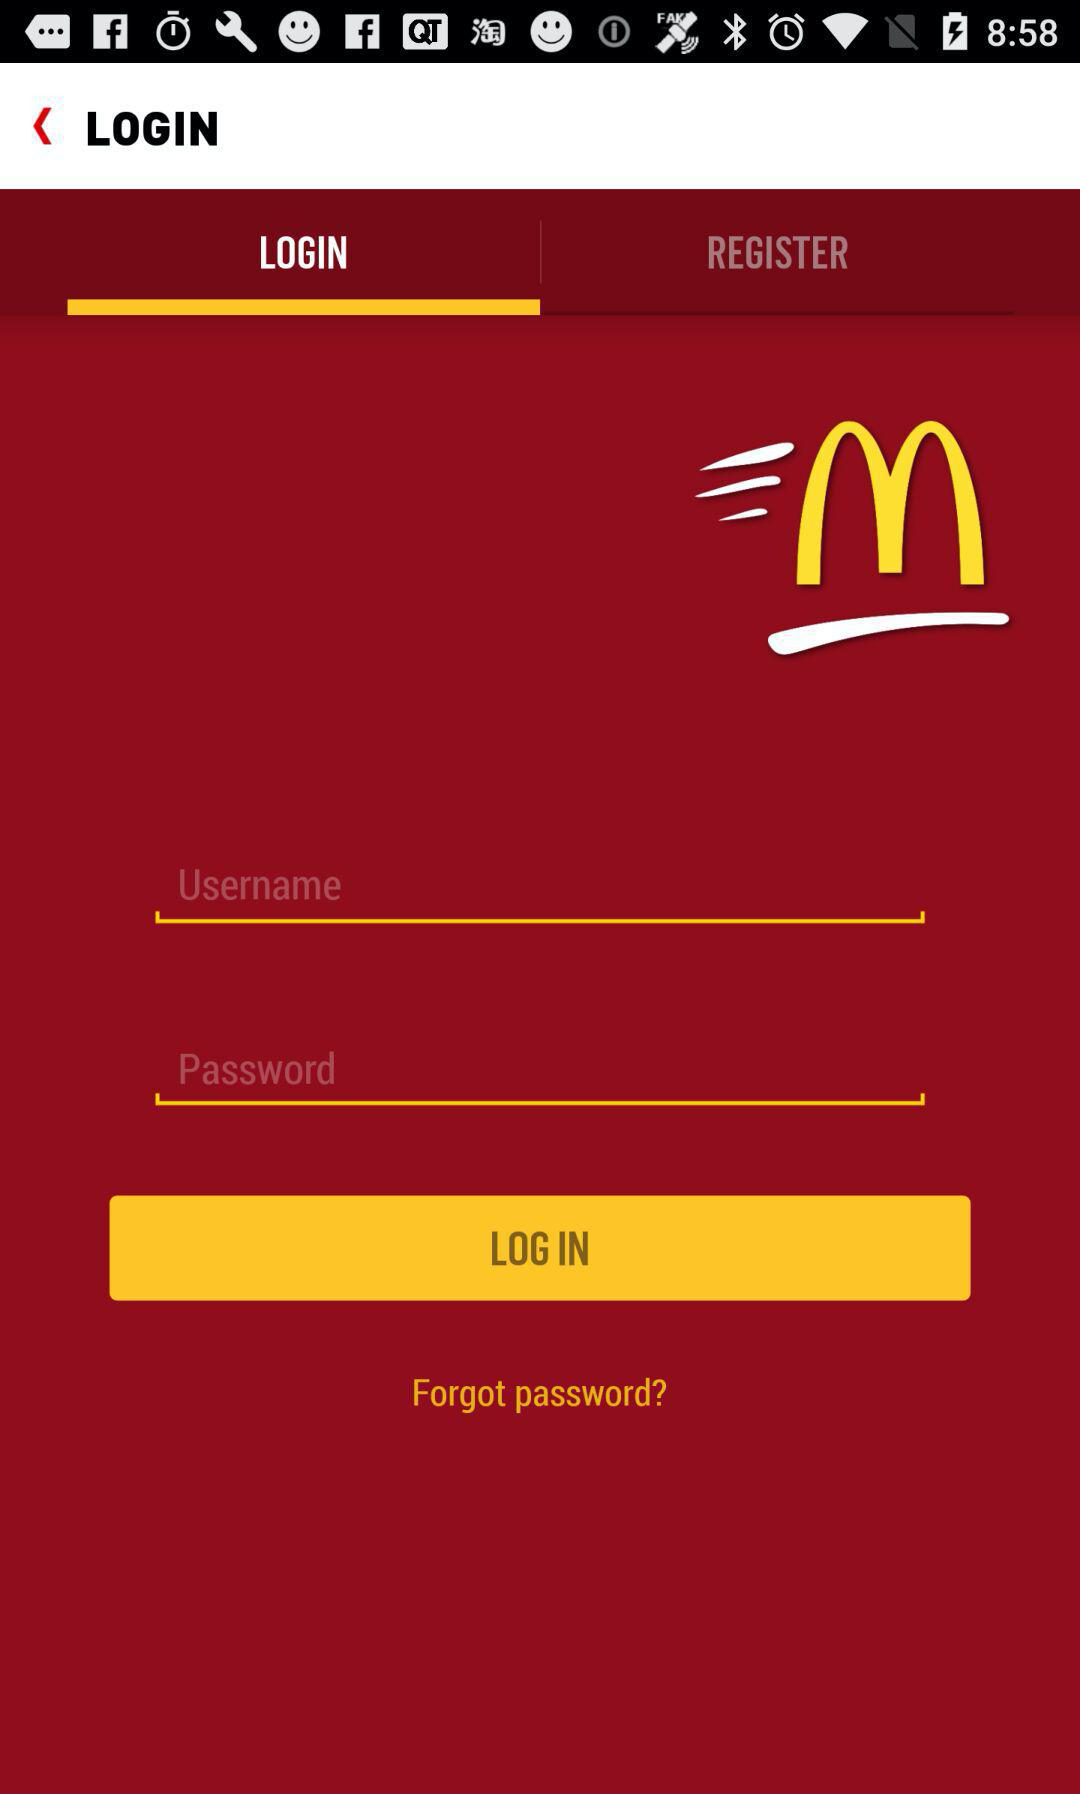EditText: (155, 1051, 926, 1108), (155, 868, 926, 925)
Icon: (33, 108, 53, 146)
Image: (694, 420, 1010, 657)
Multi_Tab: (1, 190, 1080, 317)
Text: (413, 1378, 667, 1413), (179, 868, 342, 902), (179, 1052, 336, 1087), (708, 236, 849, 270), (88, 111, 219, 147), (261, 236, 348, 270)
TextButton: (109, 1196, 971, 1302)
Toolbar: (1, 64, 1080, 190)
UpperTaskBar: (1, 1, 1080, 64)
